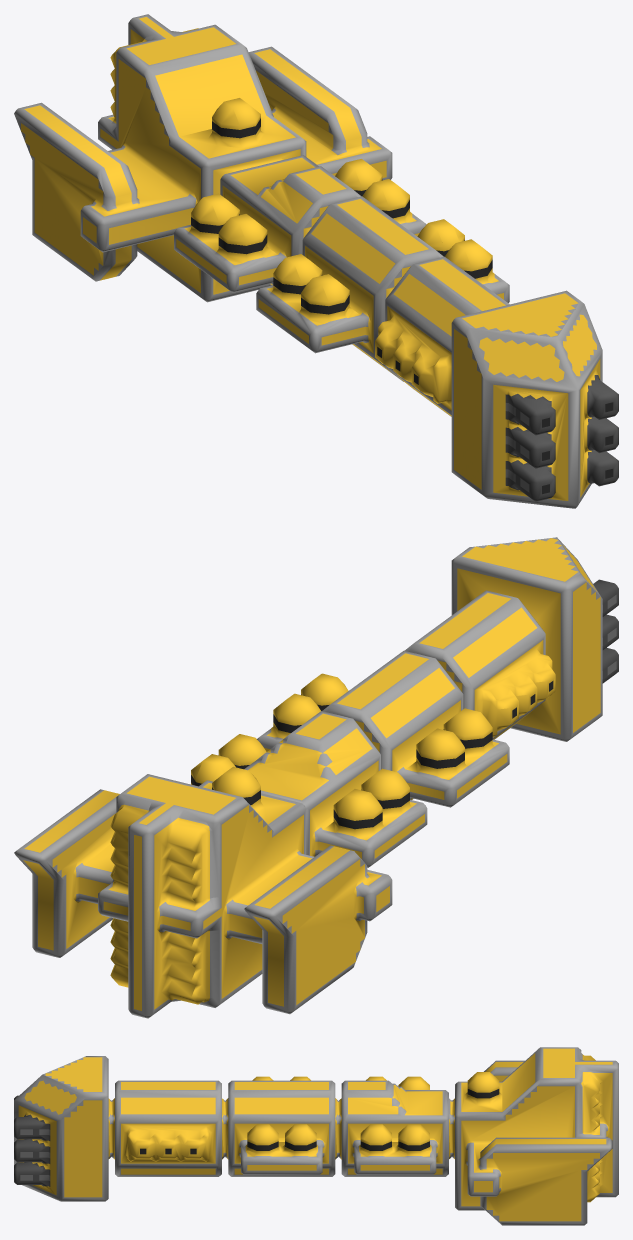
The model's file is mechyrdia-5-languavarth-class.obj.
The picture shows the model from 3 angles, top to bottom: view 1: azimuth 30°, elevation 25°; view 2: azimuth 150°, elevation 25°; view 3: azimuth 270°, elevation 25°; orthographic projection. The views are drawn at different scales.
Bounding box in the file's own units: 37 × 23 × 96.
1 material, 1 textured.
